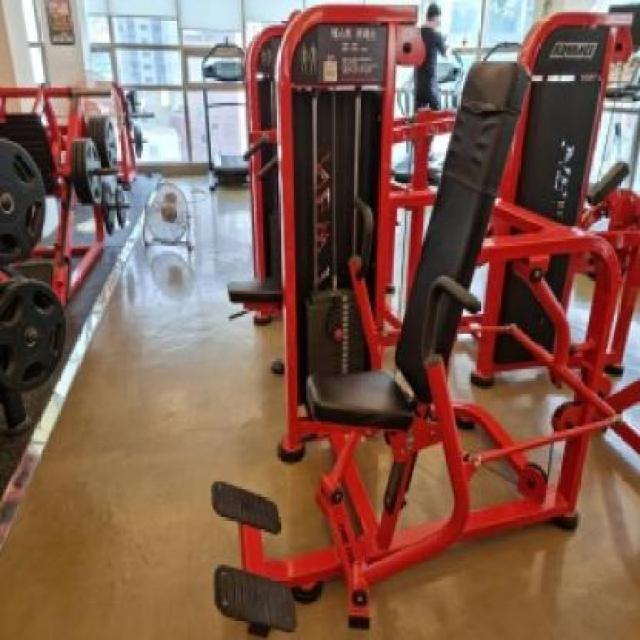Chest Press machine: (198, 3, 640, 640)
